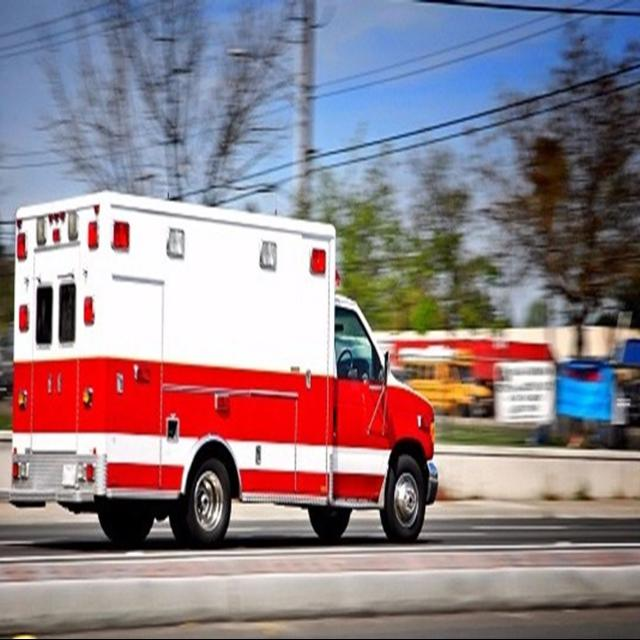emergency: (10, 191, 439, 548)
